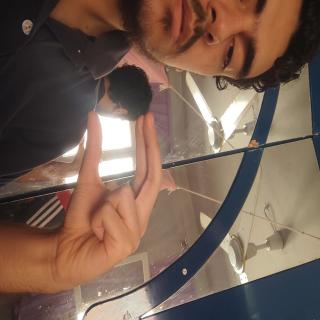DHELL: (82, 209, 219, 320)
